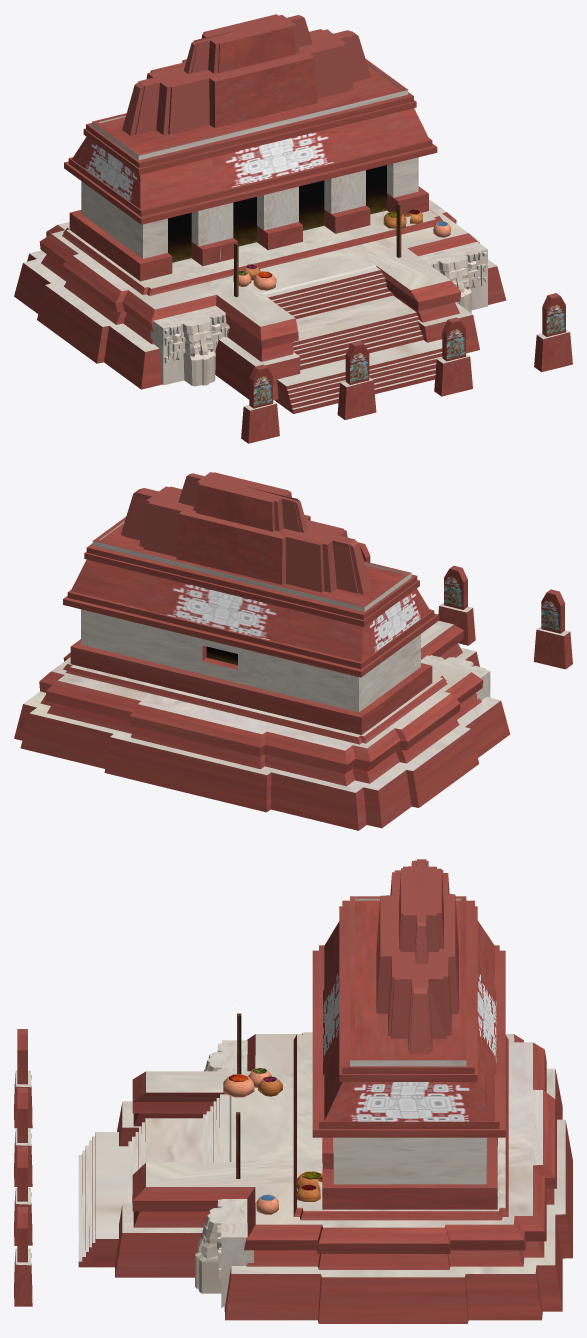
3 views of the same model, one above another, from view 1: azimuth 30°, elevation 25°; view 2: azimuth 150°, elevation 25°; view 3: azimuth 270°, elevation 25° (orthographic). The views are drawn at different scales.
Parts seen in each view (by area): view 1: cc_1; view 2: cc_1; view 3: cc_1.
Boxes of the visible parts, box(x1,y1,x2,y2) form: cc_1: box(14, 14, 572, 443); cc_1: box(14, 472, 572, 830); cc_1: box(14, 859, 572, 1323).
Size of the model in its own units: 28 by 28.81 by 18.54.
